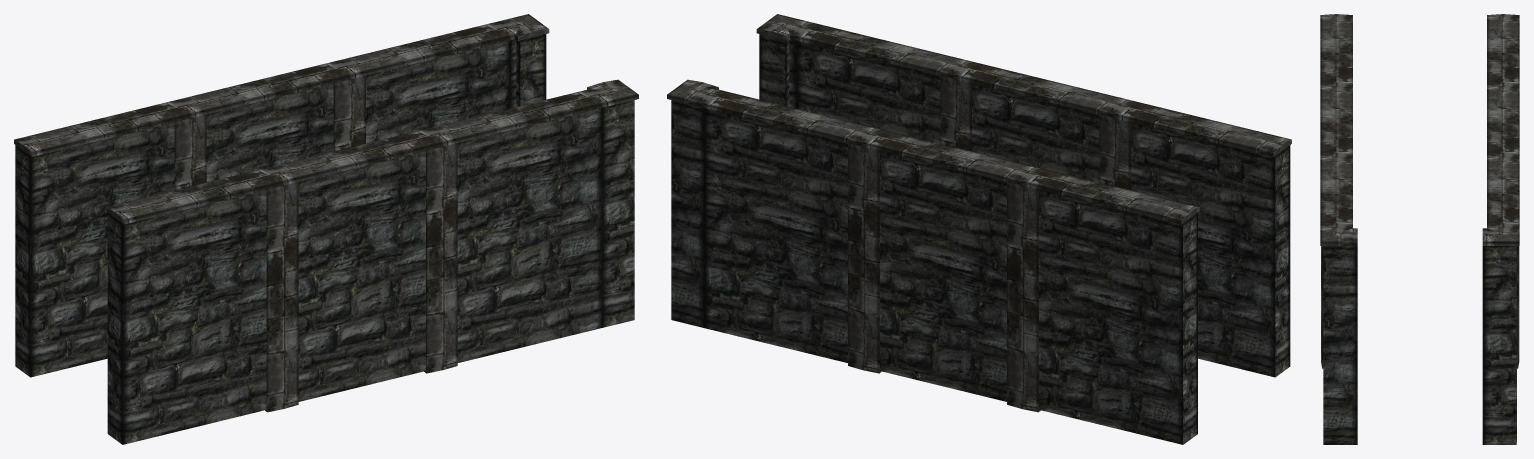
File: fencewall06.DAE
3 views of the same model, side by side, from view 1: azimuth 30°, elevation 25°; view 2: azimuth 150°, elevation 25°; view 3: azimuth 270°, elevation 25° (orthographic). The views are drawn at different scales.
Visible parts, largest first — view 1: Object083; view 2: Object083; view 3: Object083.
Part boxes in pixels (left/top/right/bottom): Object083: left=14, top=14, right=638, bottom=444; Object083: left=667, top=14, right=1291, bottom=444; Object083: left=1320, top=14, right=1519, bottom=444.
Bounding box in the file's own units: 12.89 × 5.49 × 4.79.
